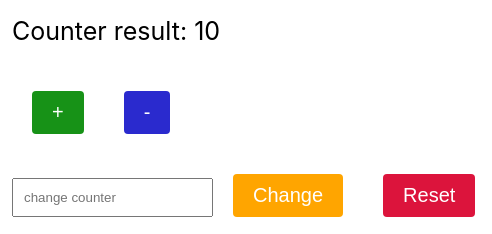
Test: Counter component › should increment counter from 10 to 13 when props start is 10
The width and height of the screenshot is (492, 234).
Expected: the text with test id "counter" reads "10", x1=194 y1=16 x2=220 y2=46
Click the button with test id "add-btn" at (58,112), box x1=32 y1=91 x2=84 y2=134
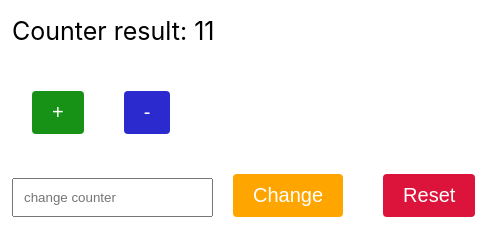
Click the button with test id "add-btn" at (58,112), box x1=32 y1=91 x2=84 y2=134
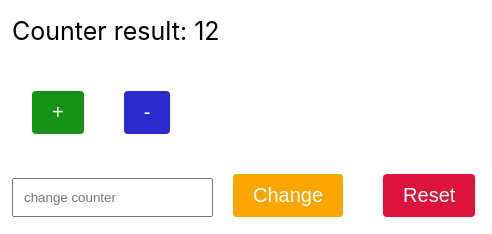
Click the button with test id "add-btn" at (58,112), box x1=32 y1=91 x2=84 y2=134
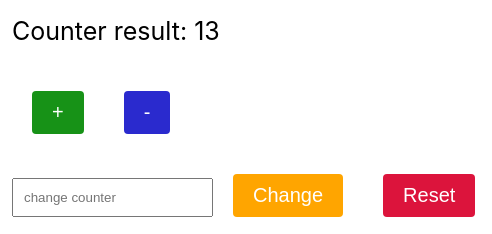
Result: the text with test id "counter" reads "13" at x1=194 y1=16 x2=220 y2=46
